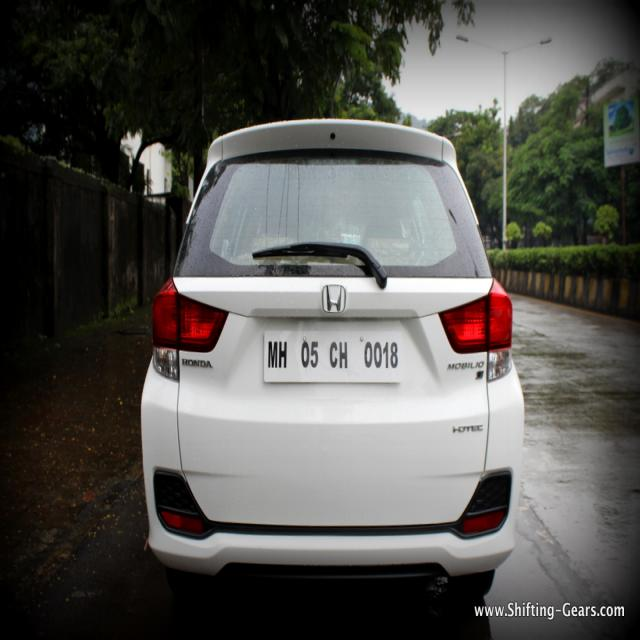Number-Plate: (265, 334, 403, 374)
